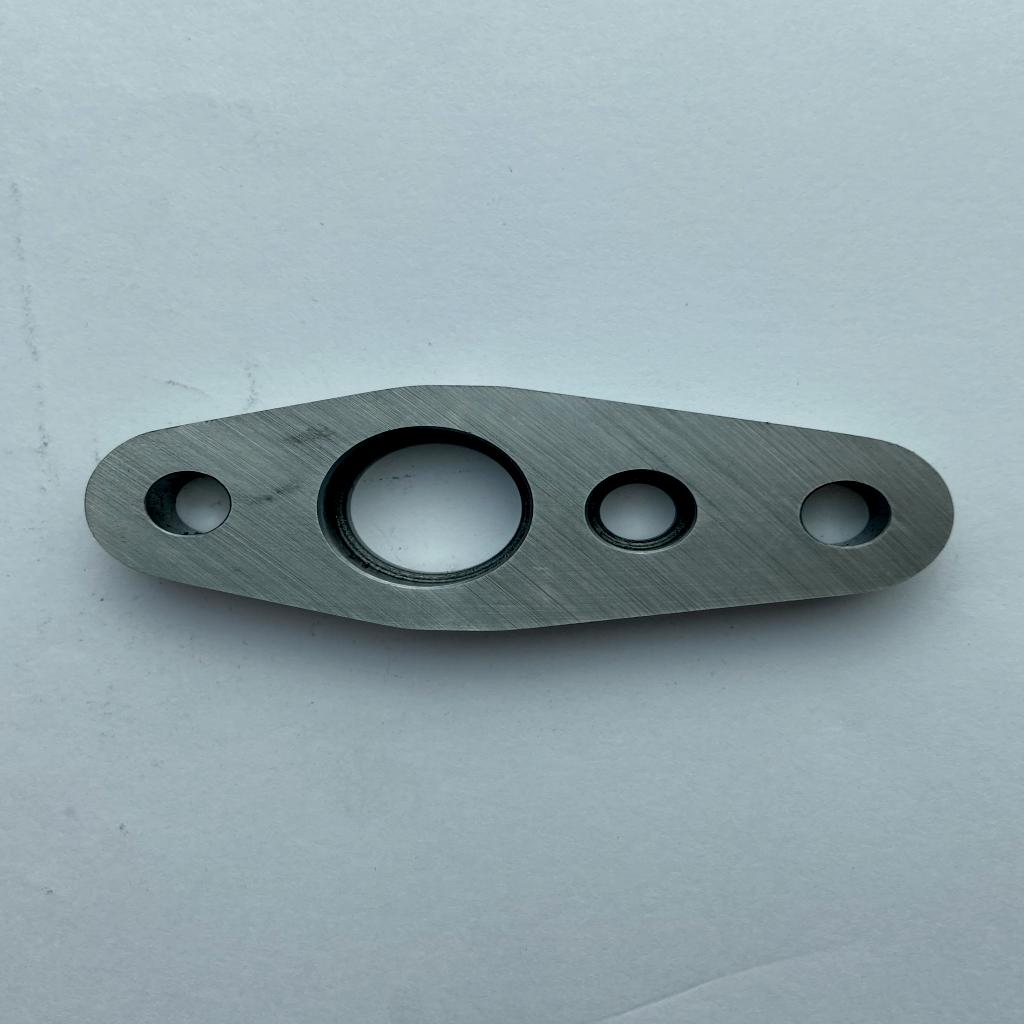lines: (233, 476, 303, 510), (279, 419, 339, 448)
